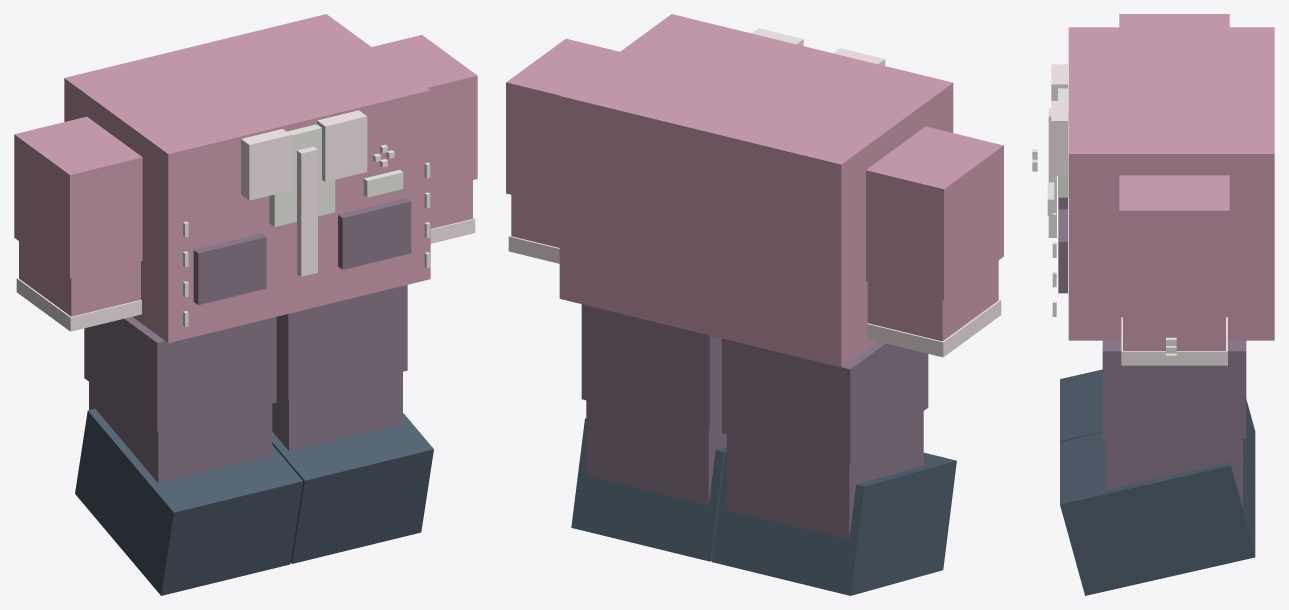
The model's file is business-rose.glb.
3 views of the same model, side by side, from view 1: azimuth 30°, elevation 25°; view 2: azimuth 150°, elevation 25°; view 3: azimuth 270°, elevation 25° (orthographic). The views are drawn at different scales.
Parts seen in each view (by area): view 1: jacket, shoe-Right, upper-sleeve-Right, trouser-Right, shoe-Left, trouser-Left, lower-trouser-Right, upper-sleeve-Left, lower-trouser-Left, lower-sleeve-Right, pocket--1, pocket-1 (+8 smaller); view 2: jacket, upper-sleeve-Right, trouser-Right, shoe-Right, trouser-Left, lower-trouser-Right, lower-trouser-Left, upper-sleeve-Left, shoe-Left, lower-sleeve-Right, cuff-Right, lower-sleeve-Left (+1 smaller); view 3: jacket, shoe-Left, upper-sleeve-Left, trouser-Left, lower-trouser-Left, lower-sleeve-Left, shoe-Right, cuff-Left, upper-sleeve-Right, lapel-1, pocket-1, tie (+2 smaller).
Boxes of the visible parts, x1,y1,x2,y2 form: jacket: (64,14,430,342); shoe-Right: (75,409,302,595); upper-sleeve-Right: (14,116,142,278); trouser-Right: (84,317,276,431); shoe-Left: (272,413,433,563); trouser-Left: (276,285,407,399); lower-trouser-Right: (89,382,272,482); upper-sleeve-Left: (372,35,477,190); lower-trouser-Left: (272,372,402,451); lower-sleeve-Right: (19,241,140,316); pocket--1: (193,233,266,304); pocket-1: (338,198,411,269); jacket: (559,14,953,367); upper-sleeve-Right: (866,126,1003,300); trouser-Right: (722,338,928,464); shoe-Right: (712,452,956,595); trouser-Left: (581,304,721,430); lower-trouser-Right: (726,411,923,539); lower-trouser-Left: (586,400,726,505); upper-sleeve-Left: (506,38,619,206); shoe-Left: (571,418,726,561); lower-sleeve-Right: (867,260,998,341); cuff-Right: (867,299,1001,357); lower-sleeve-Left: (511,195,559,247); jacket: (1068,27,1274,340); shoe-Left: (1060,432,1255,595); upper-sleeve-Left: (1119,175,1229,312); trouser-Left: (1102,340,1246,438); lower-trouser-Left: (1106,439,1242,507); lower-sleeve-Left: (1123,312,1225,350); shoe-Right: (1060,369,1255,493); cuff-Left: (1121,317,1227,365); upper-sleeve-Right: (1119,14,1229,27); lapel-1: (1051,101,1067,175); pocket-1: (1058,209,1067,293); tie: (1048,108,1056,237).
Size of the model in its own units: 1.08 by 1.13 by 0.559.
